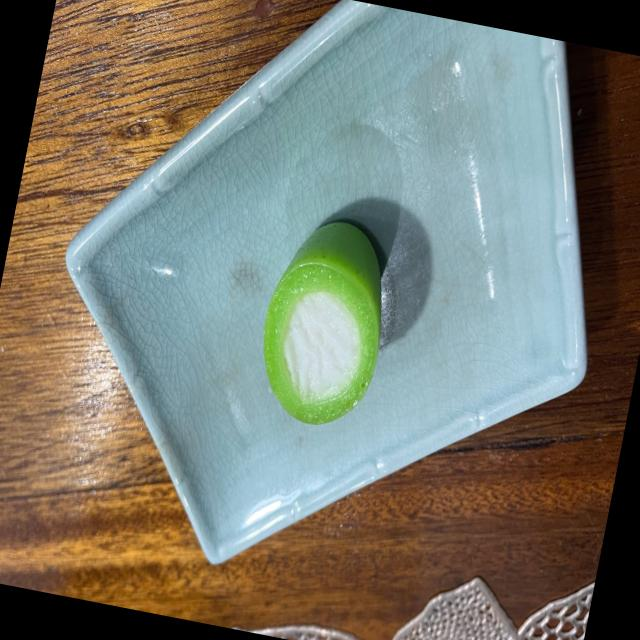nona-manis: (263, 222, 382, 425)
